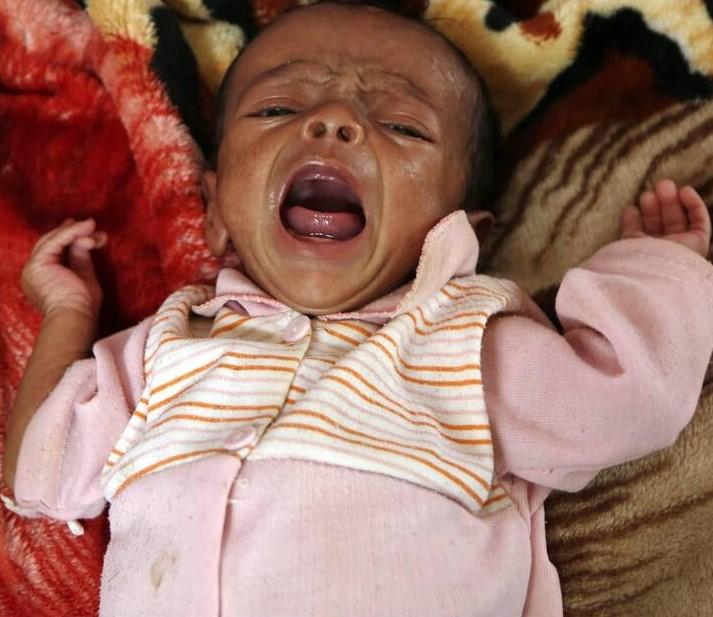Stunting: (148, 0, 518, 328)
